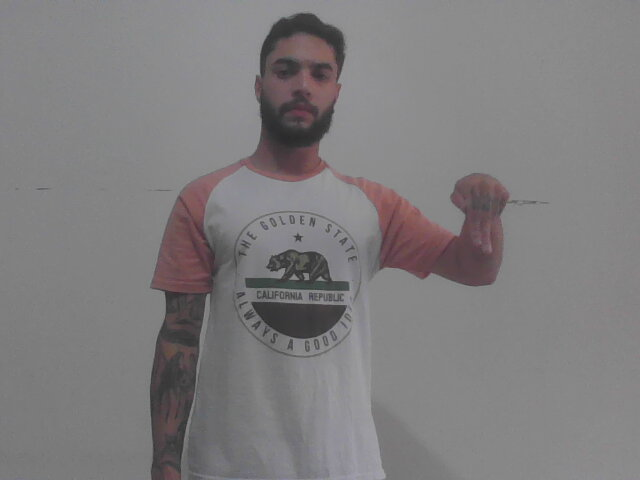n: (443, 163, 512, 264)
